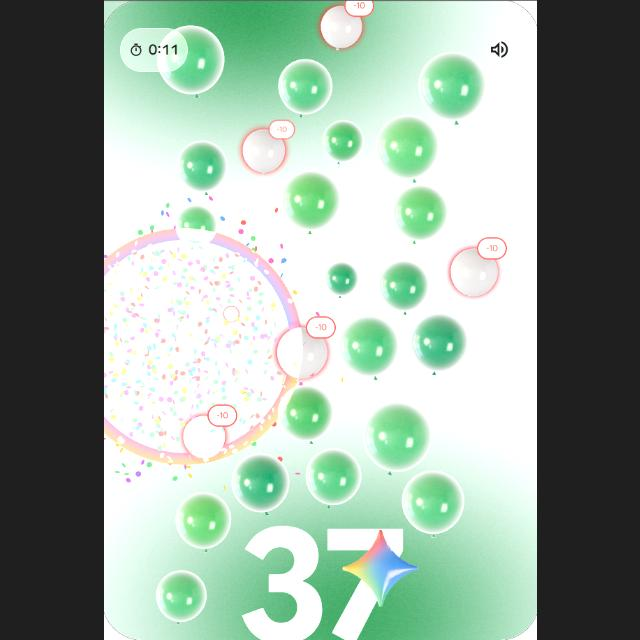gemini: (338, 526, 426, 610)
hazard: (268, 314, 340, 386), (440, 238, 516, 300), (302, 0, 380, 56), (232, 118, 298, 176), (176, 405, 237, 465), (218, 300, 246, 332)
safe: (150, 18, 236, 102), (357, 400, 437, 478), (414, 49, 490, 127), (372, 111, 448, 182), (397, 468, 467, 540), (223, 452, 295, 520), (404, 309, 472, 379), (338, 311, 399, 383), (166, 491, 237, 551), (389, 182, 449, 250), (272, 385, 338, 445), (302, 446, 364, 509), (282, 168, 338, 236), (272, 60, 334, 119), (375, 257, 433, 317), (147, 572, 213, 624), (176, 139, 228, 199), (169, 204, 217, 253), (321, 120, 365, 168), (320, 256, 360, 300)
